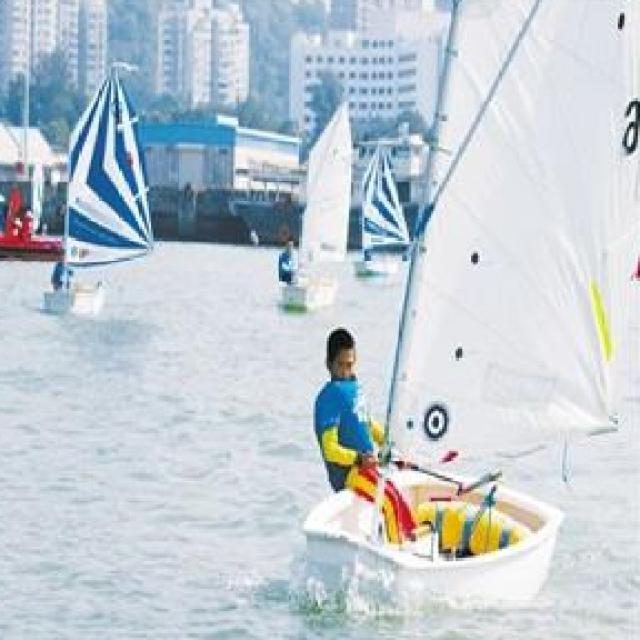sailboat: (300, 0, 640, 624), (36, 58, 193, 319), (265, 108, 380, 322)
